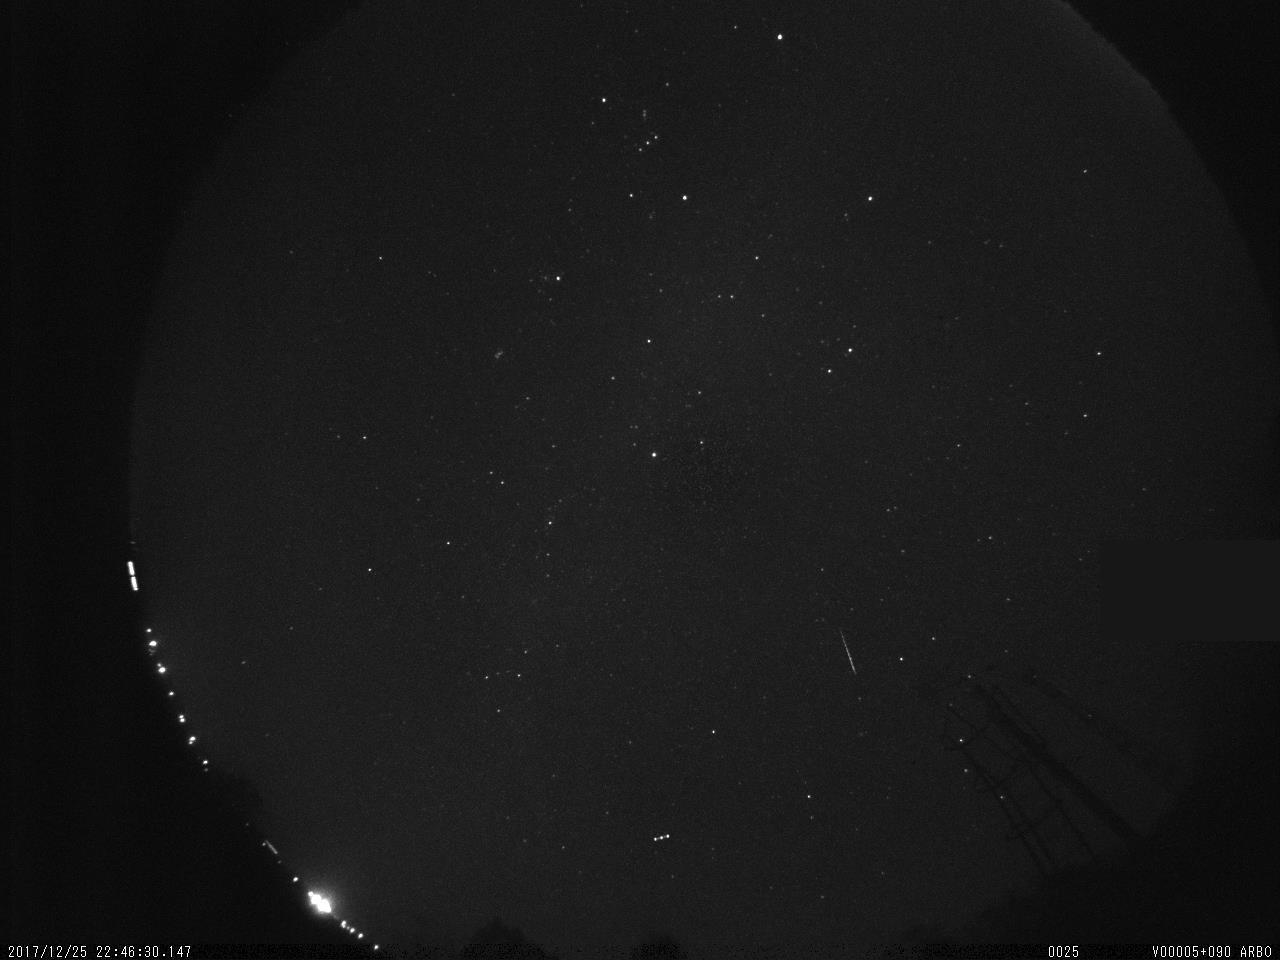meteor: (824, 608, 875, 690)
